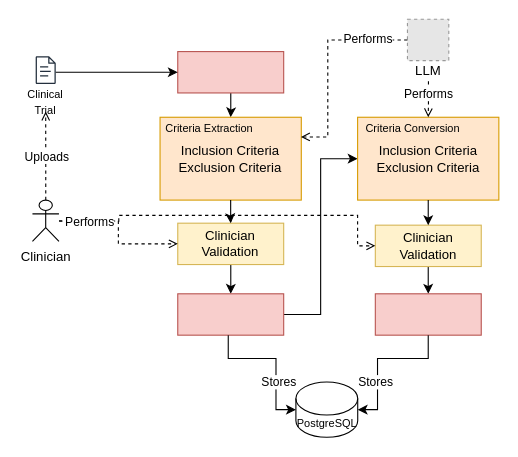
Some shapes in this 518 by 457 pixel diagram are drawn without their labels. Grey dashed boxes stand in for pictures. Each missing label, with the centre of its shape:
"Pre-Processing" belongs at [230,71].
"Storage of Converted rules" belongs at [427,314].
"Storage of Extracted criteria" belongs at [230,314].
